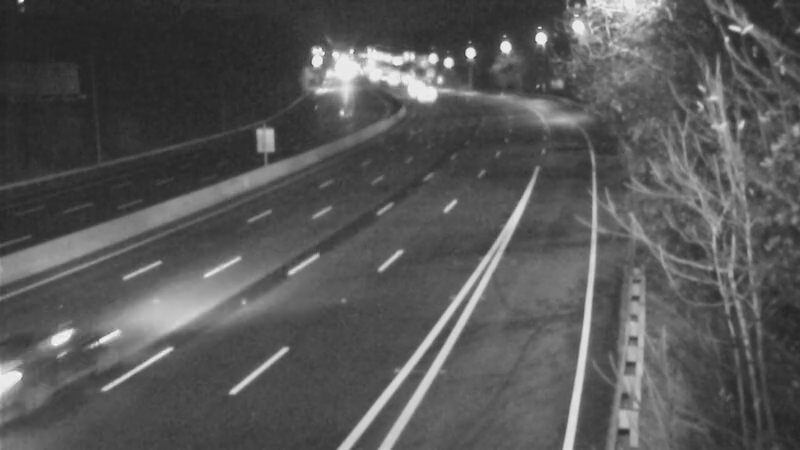vehicle: (1, 307, 106, 417), (391, 61, 441, 111), (398, 69, 448, 119)
